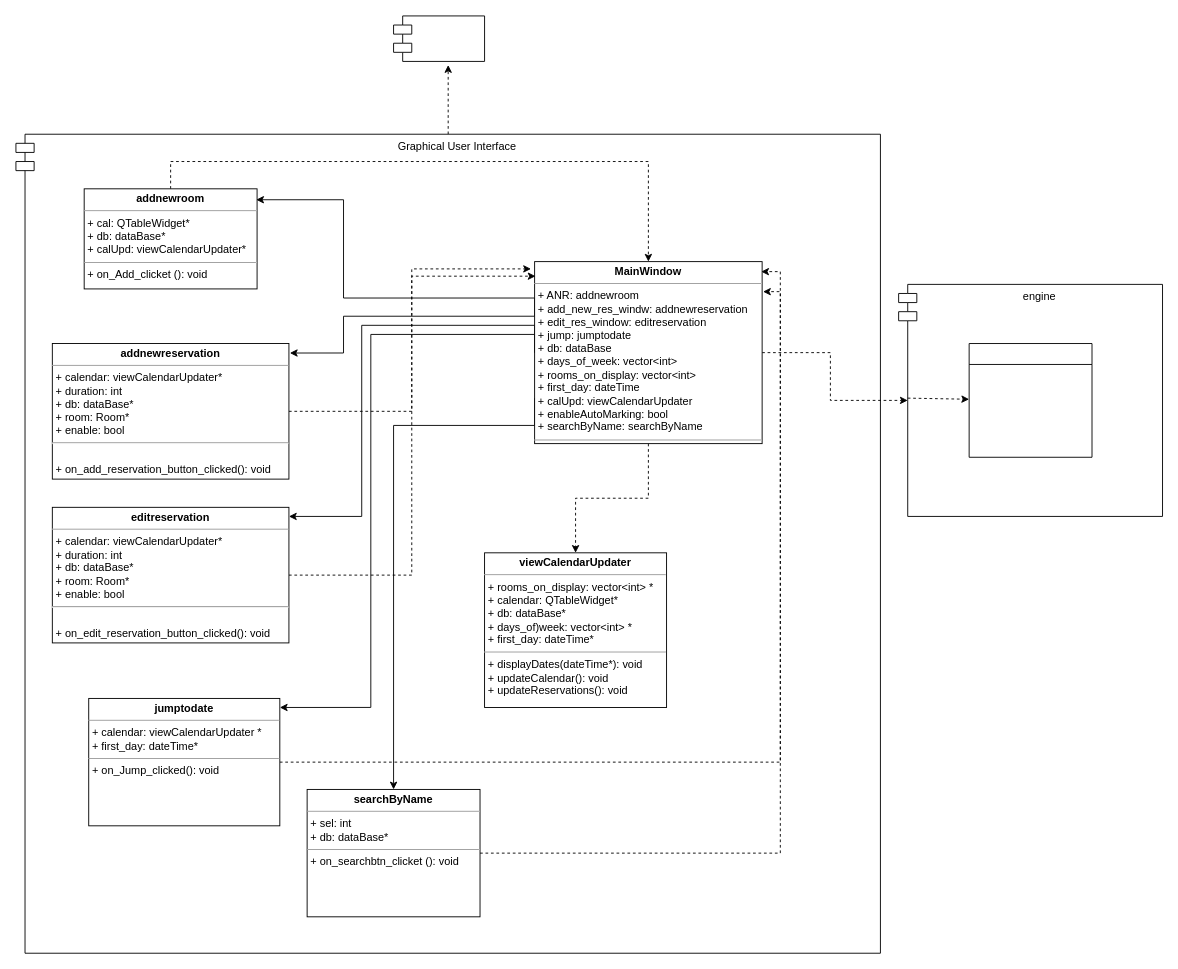
The diagram is 1178 pixels wide and 969 high, and some of its shapes have lost their labels. The centre of each missing label's shape, as x and y in pixels:
"dataBase" goes at [1030,400].
"Qt library" goes at [439,38].
